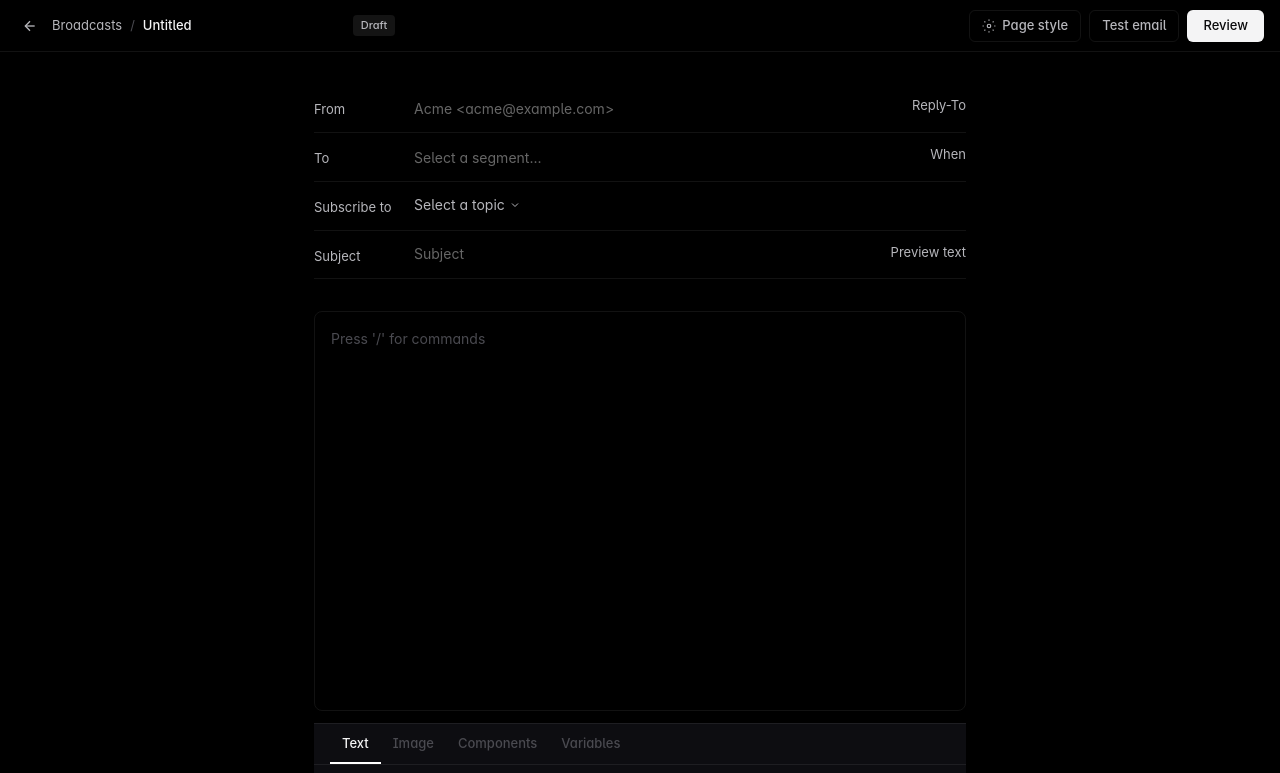
it: BroadcastEditor — Block Editor › inserting a text block via slash menu adds editable text area
Open slash menu
Press / in the element with test id "block-editor", box [314,311,966,711]
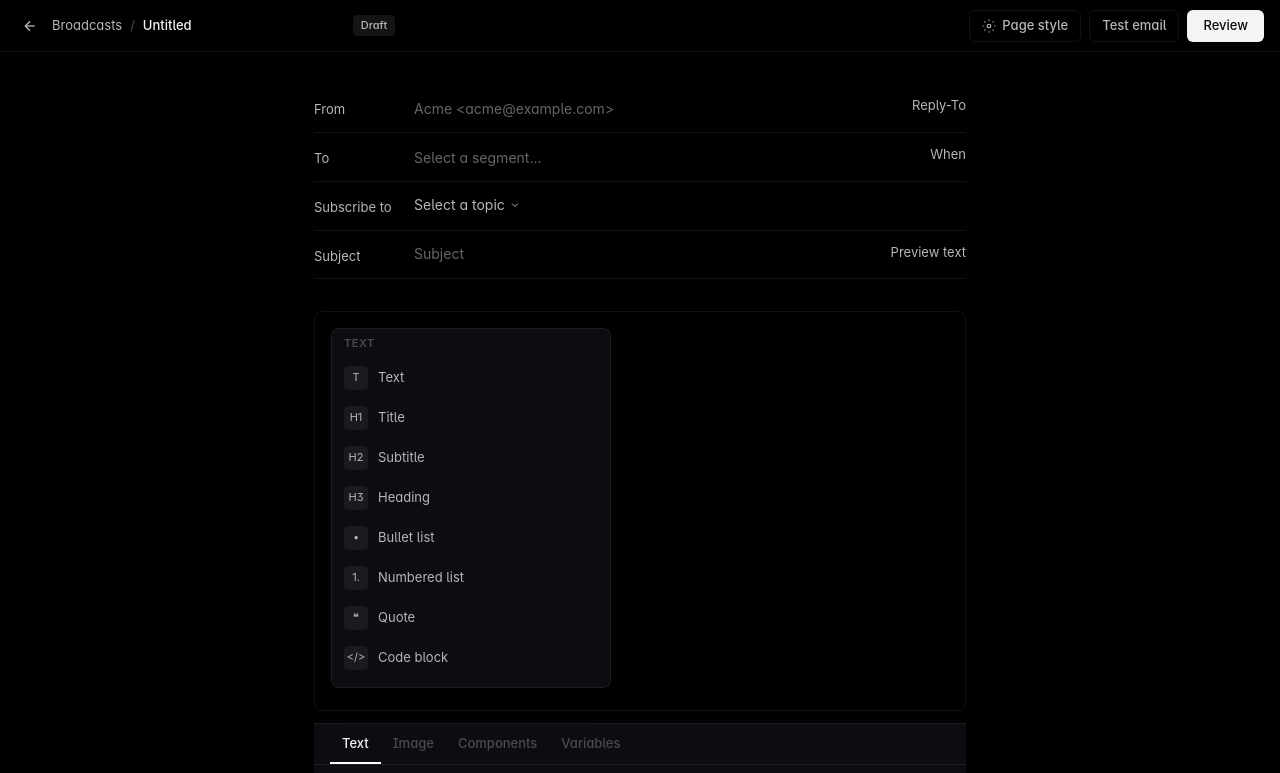
Click "Quote"
Click the button "❝ Quote": (397, 617) [332,598,610,638]
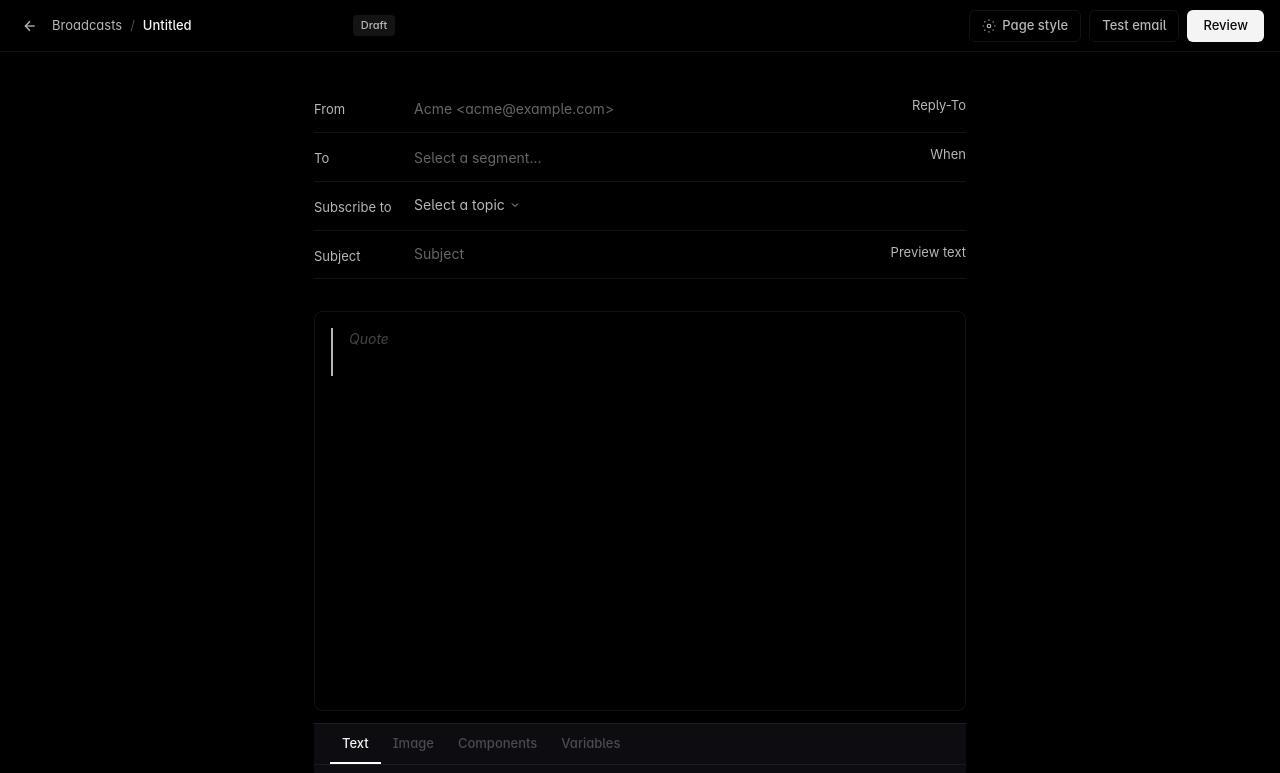
Check: the element with test id "block-quote" is shown, box [331,328,949,376]
